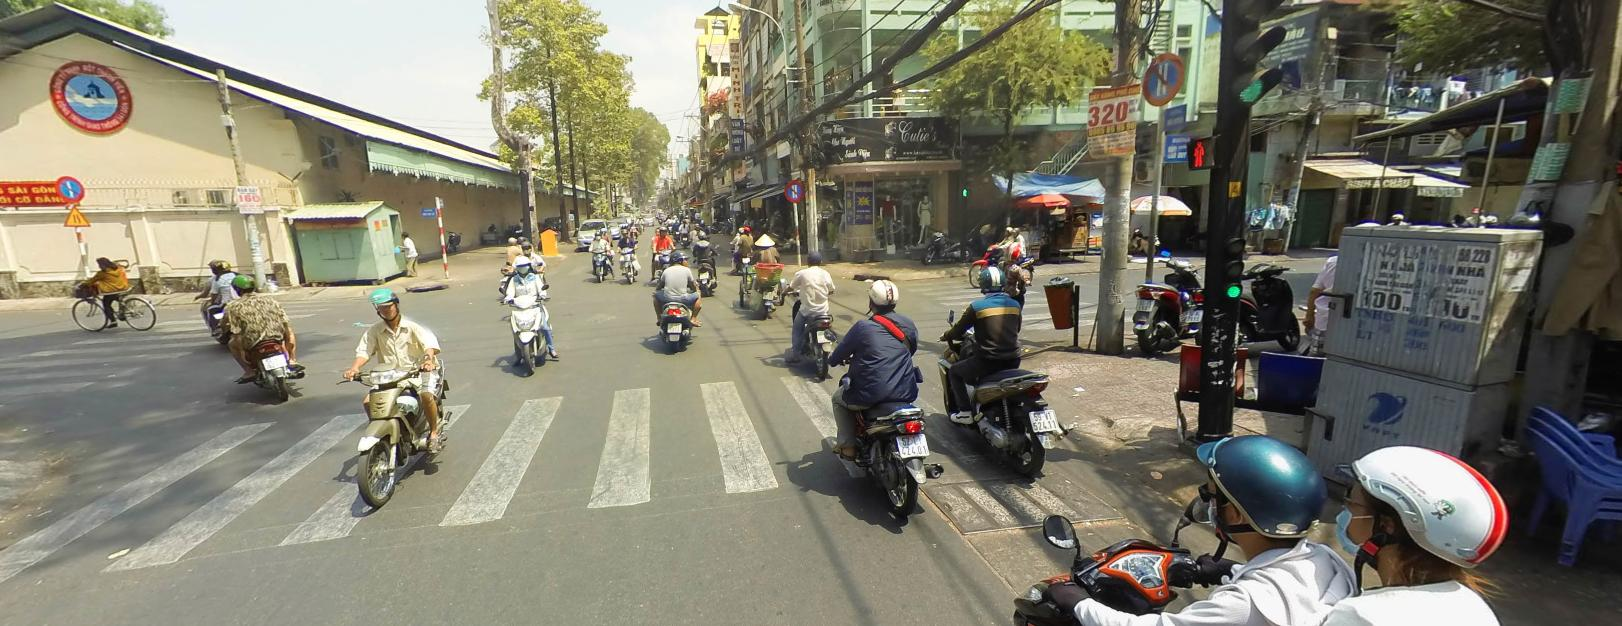Cam dung va do: (1143, 51, 1184, 103), (56, 175, 85, 201), (784, 179, 804, 199)
Nguy hiem: (60, 204, 91, 225)
